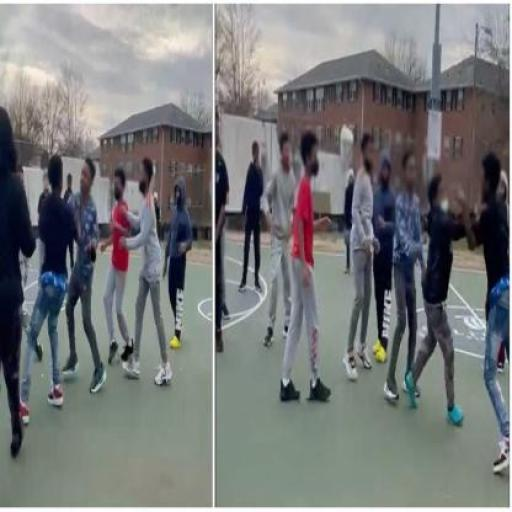Fighting: (401, 119, 512, 479), (30, 144, 105, 414)
